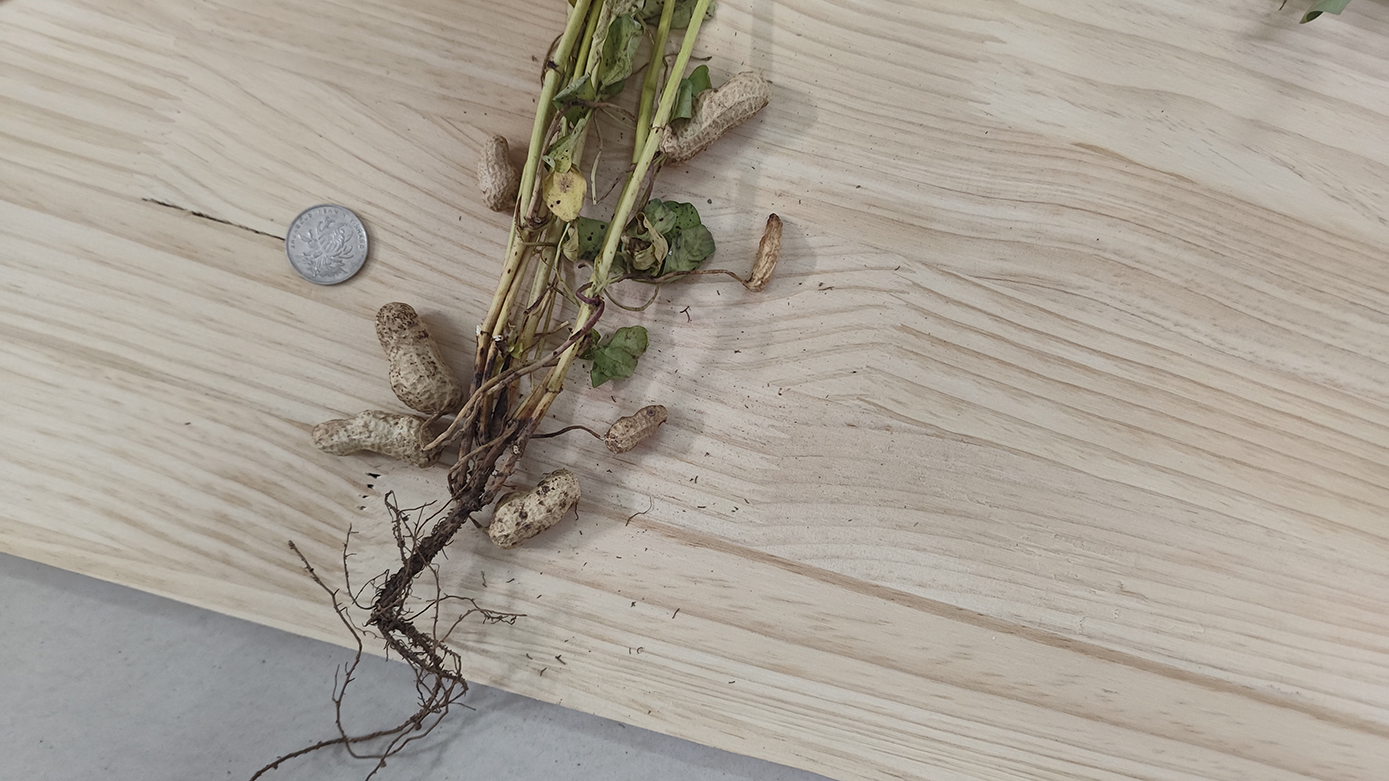h: (375, 301, 462, 413), (662, 74, 771, 161), (489, 471, 581, 548), (313, 411, 440, 466), (475, 132, 526, 213), (606, 404, 668, 452)
l: (748, 214, 781, 290)
